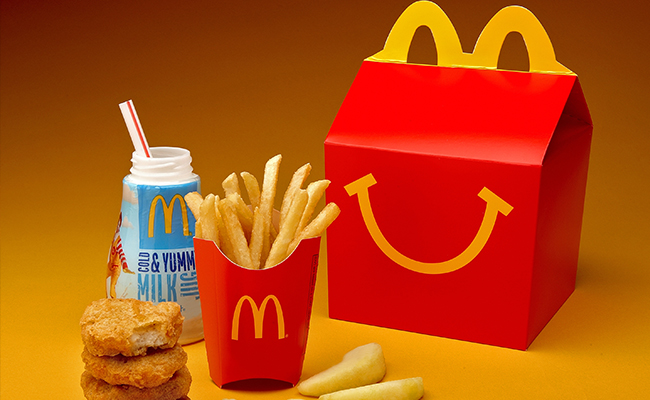mcdonalds: (227, 289, 294, 353), (141, 189, 194, 245)
